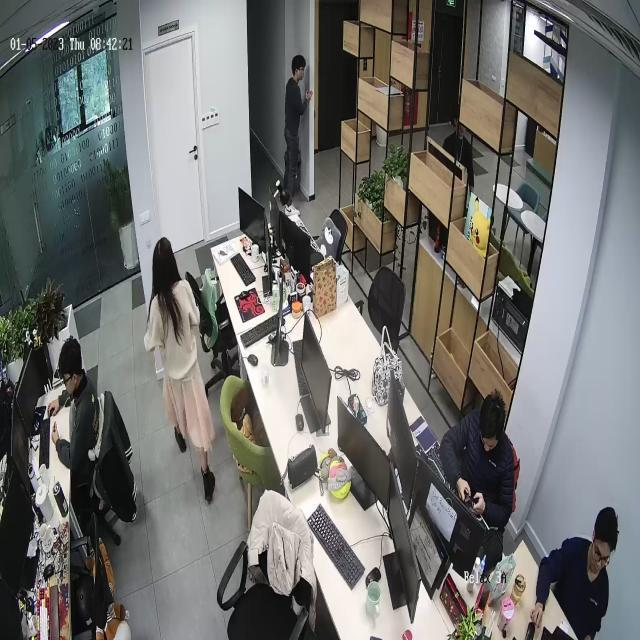person: (144, 236, 217, 506), (529, 506, 619, 640), (439, 391, 515, 534), (46, 337, 102, 521), (282, 54, 312, 208)
